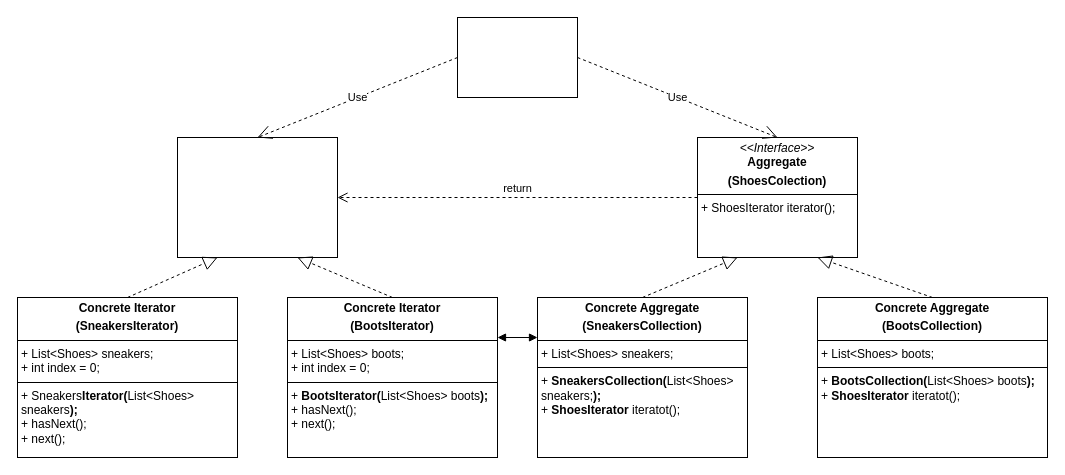
This 1065x475 diagram has some shape labels left out. The shapes that lost their labels are listed below. From the top down, each one's centre as x and y in pixels, then its label:
At point 517,57: "Client".
At point 257,197: "<<Interface>> Iterator (ShoesIterator) + hasNext(); + next();".
